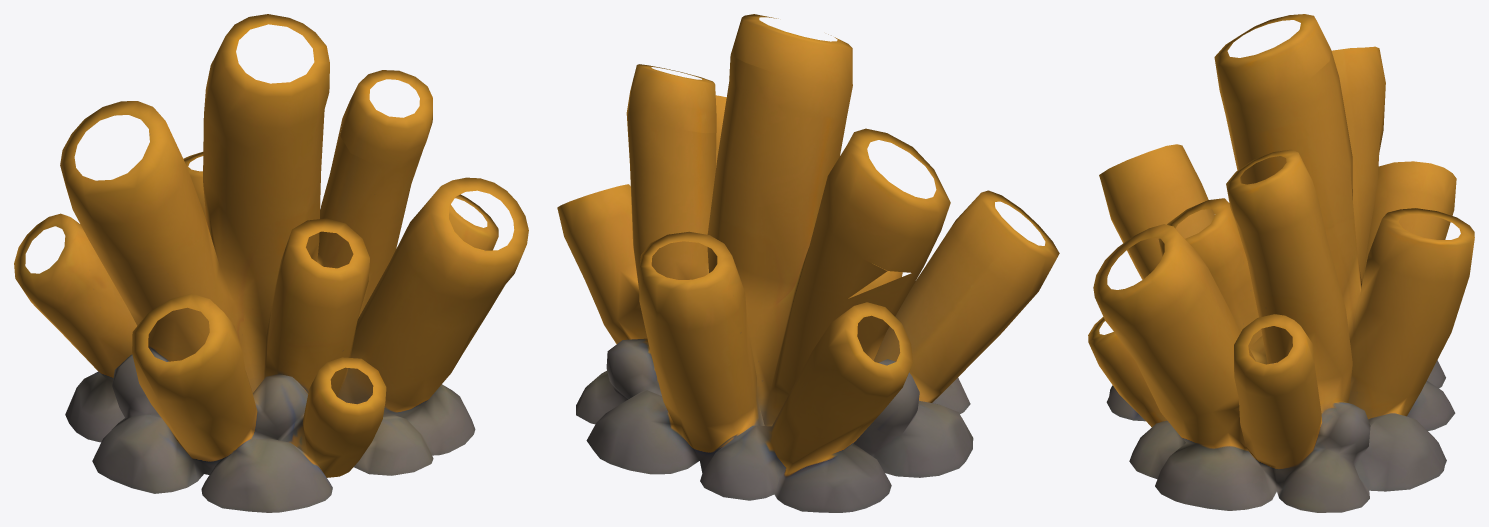
The model's file is coral_tubes.glb.
3 views of the same model, side by side, from view 1: azimuth 30°, elevation 25°; view 2: azimuth 150°, elevation 25°; view 3: azimuth 270°, elevation 25° (orthographic).
Visible parts, largest first — view 1: tripo_47c96140_772f_44c1_bed4_a5af46efab39; view 2: tripo_47c96140_772f_44c1_bed4_a5af46efab39; view 3: tripo_47c96140_772f_44c1_bed4_a5af46efab39.
Boxes of the visible parts, x1=… form: tripo_47c96140_772f_44c1_bed4_a5af46efab39: x1=14, y1=14, x2=528, y2=512; tripo_47c96140_772f_44c1_bed4_a5af46efab39: x1=557, y1=14, x2=1059, y2=512; tripo_47c96140_772f_44c1_bed4_a5af46efab39: x1=1088, y1=14, x2=1474, y2=512.
Size of the model in its own units: 1.15 by 1.07 by 0.9181.
Materials: 1 (1 with a texture image).
